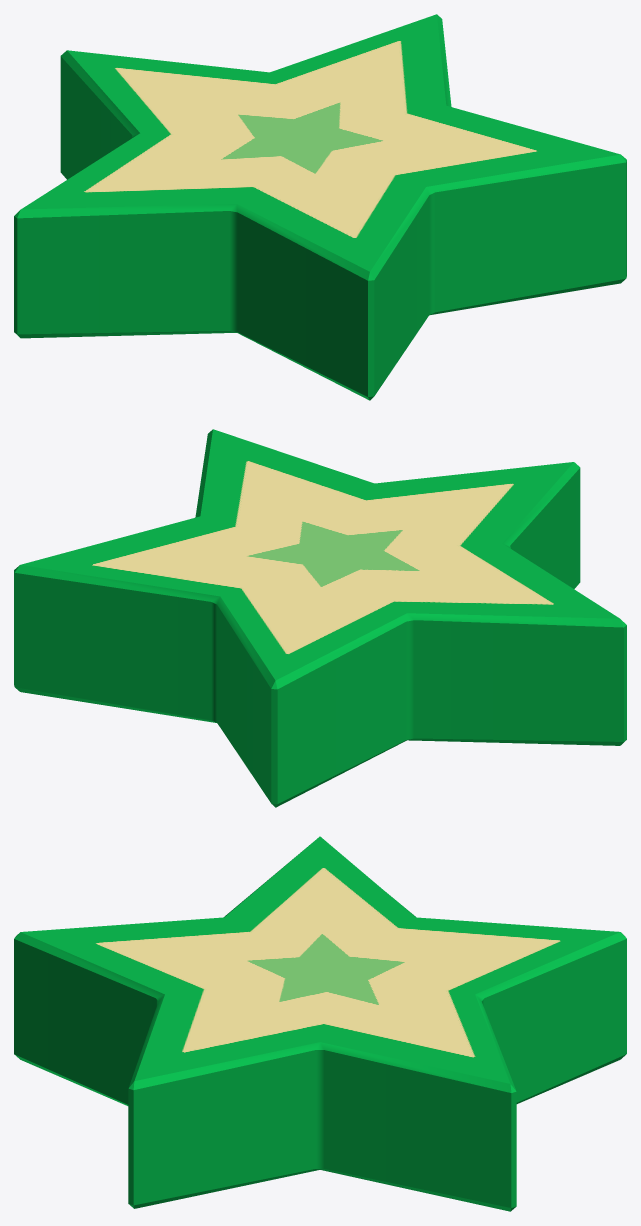
File: SpinningStar.fbx
3 views of the same model, one above another, from view 1: azimuth 30°, elevation 25°; view 2: azimuth 150°, elevation 25°; view 3: azimuth 270°, elevation 25° (orthographic).
Parts seen in each view (by area): view 1: pCylinder3; view 2: pCylinder3; view 3: pCylinder3.
Part boxes in pixels (left/top/right/bottom): pCylinder3: left=14, top=14, right=626, bottom=400; pCylinder3: left=14, top=429, right=626, bottom=807; pCylinder3: left=14, top=836, right=626, bottom=1211.
Size of the model in its own units: 2.12 by 0.5 by 2.17.
